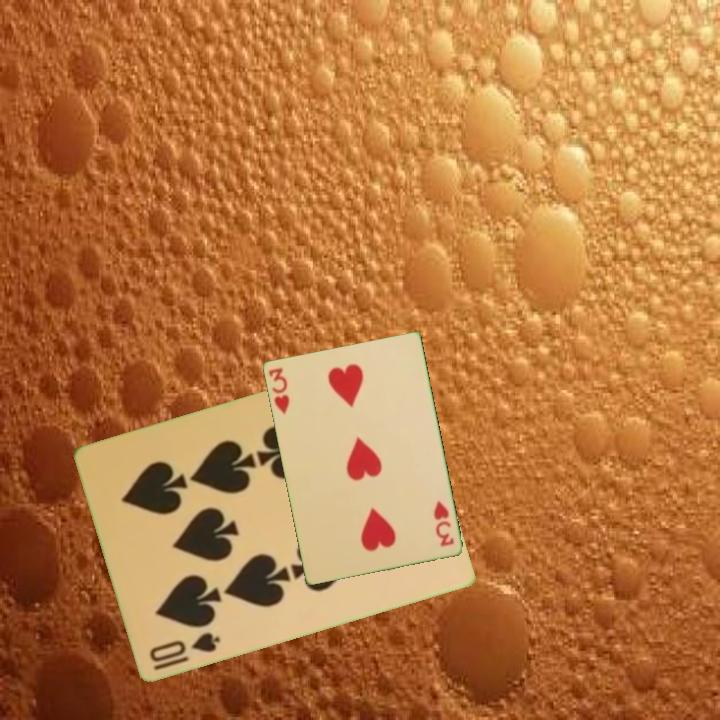10s: (146, 628, 224, 673)
3h: (264, 364, 292, 417), (430, 497, 456, 549)
